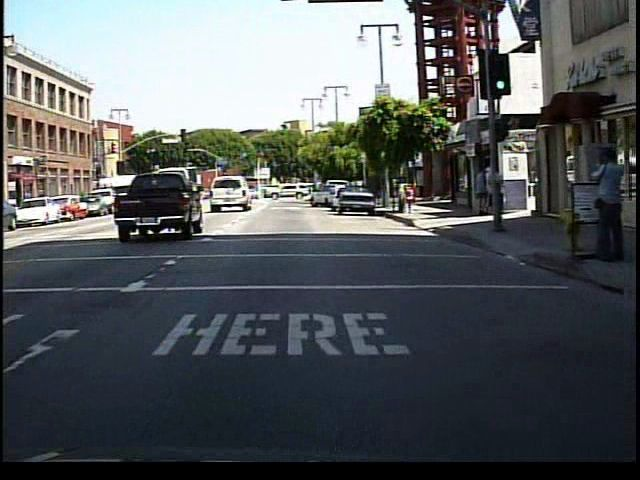person: (584, 145, 624, 264), (485, 162, 510, 230), (473, 167, 489, 218)
